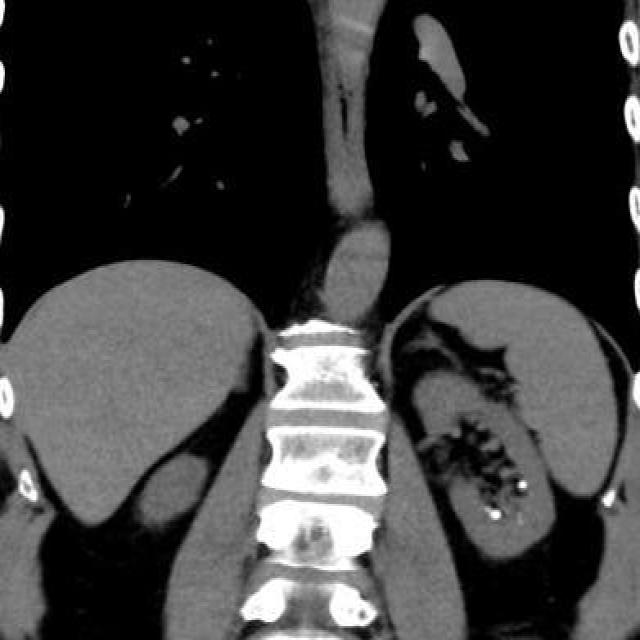Tas_Var: (516, 478, 528, 492), (490, 508, 502, 520), (482, 505, 494, 513), (516, 517, 526, 525), (516, 511, 524, 517)
